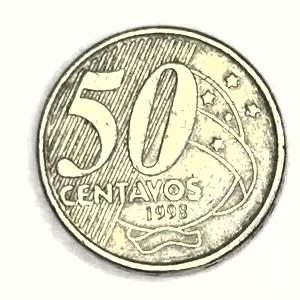50 cent: (35, 24, 287, 274)
